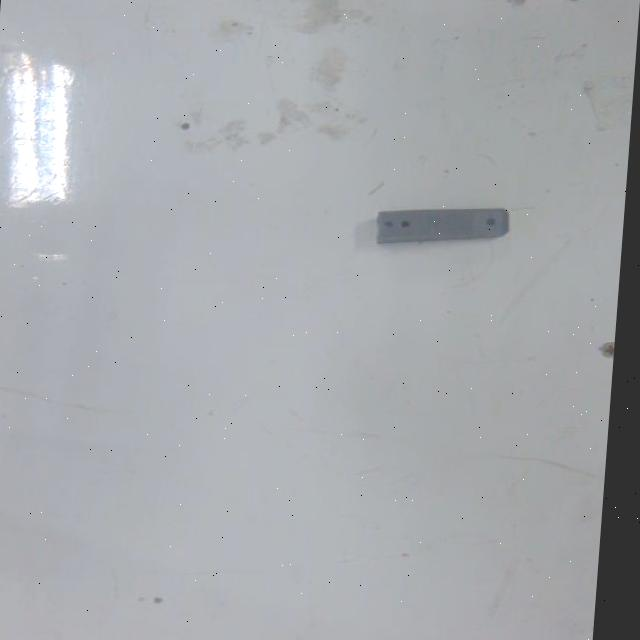grey: (369, 207, 510, 245)
head: (481, 216, 498, 228)
